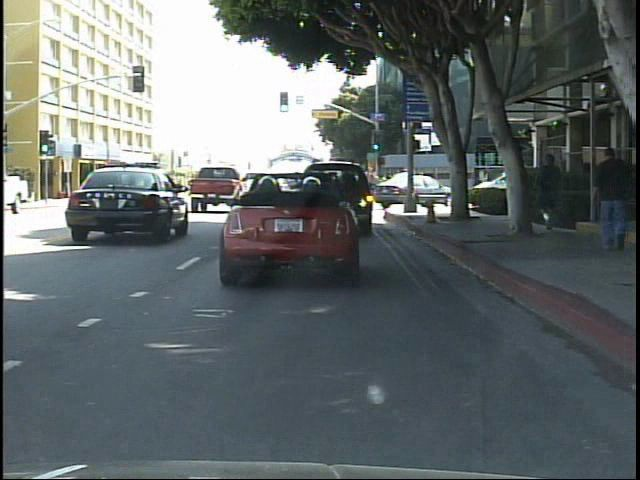person: (592, 141, 636, 260), (532, 146, 570, 236), (133, 175, 151, 202)
